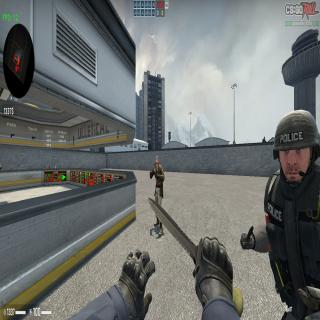CT-Body: (241, 108, 320, 320)
CT-Head: (272, 109, 320, 188)
T-Body: (150, 155, 164, 237)
T-Head: (154, 155, 160, 169)
